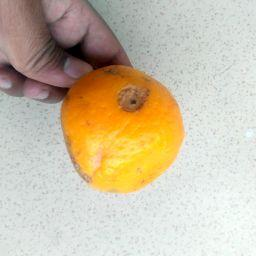Unripe: (61, 65, 185, 194)
